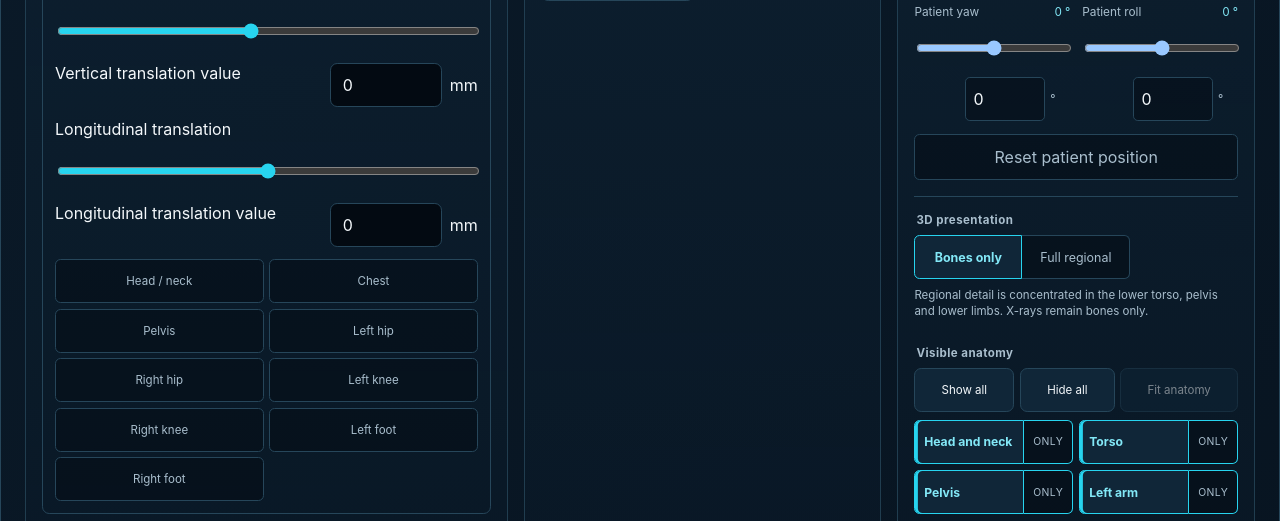
Test case: simulation store › uses the complete anatomy length for longitudinal travel
The width and height of the screenshot is (1280, 521).
(page scrolled)
Replace the text in the number field labelled "Longitudinal translation value" with "2200" at (386, 225), box [330,203,442,247]
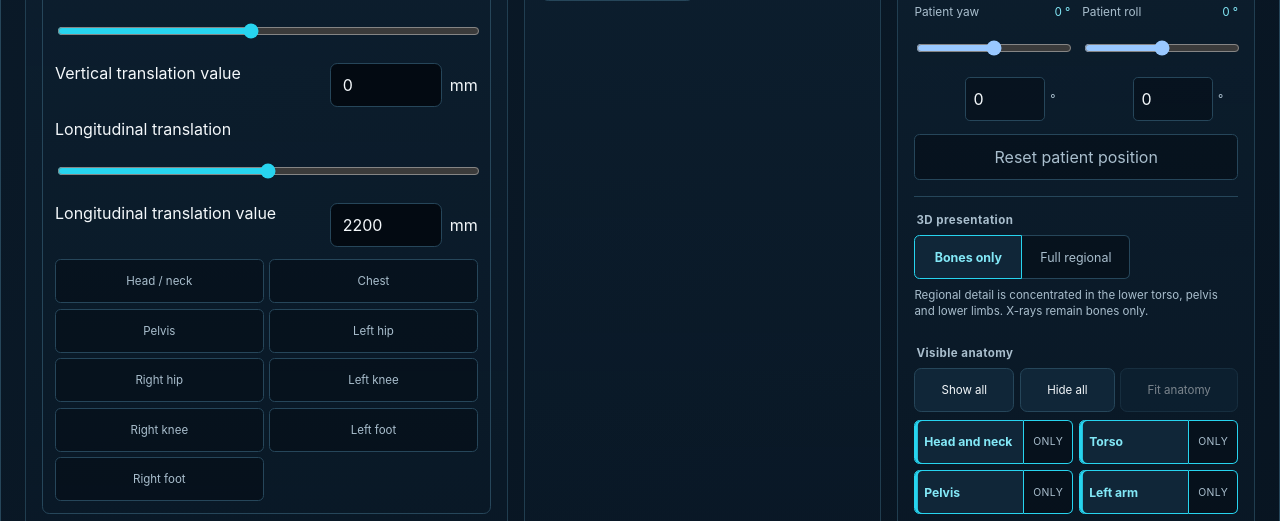
Leave the number field labelled "Longitudinal translation value", box [330,203,442,247]
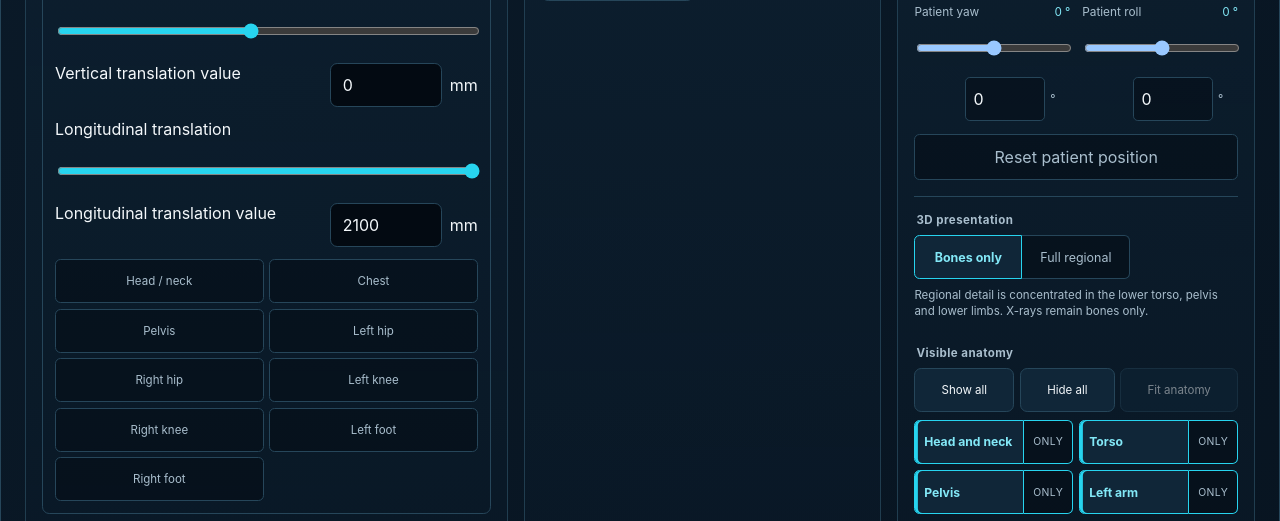
Expected: the number field labelled "Longitudinal translation value" holds "2100", [330,203,442,247]
